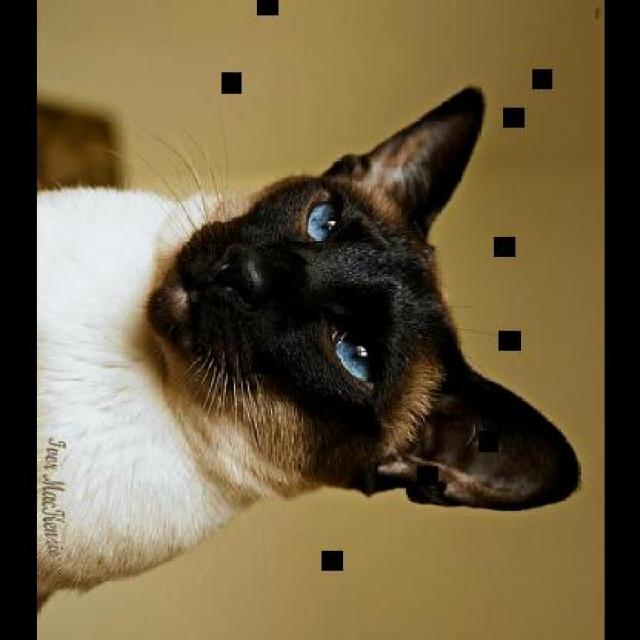unauthorized: (35, 83, 580, 609)
